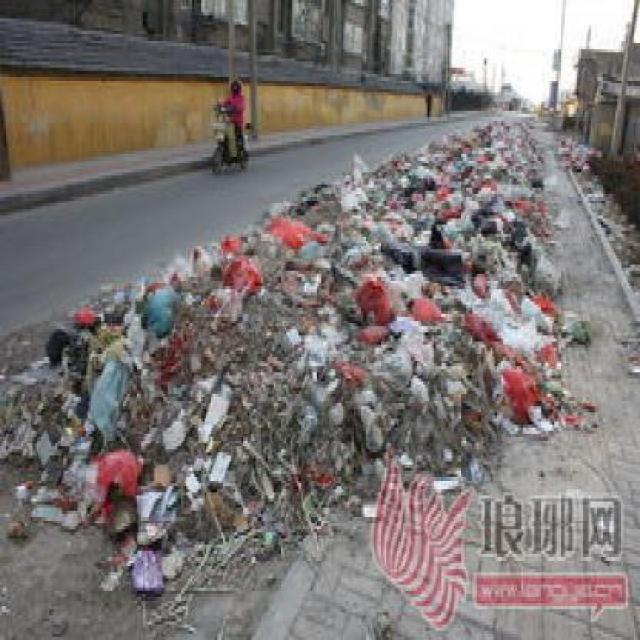garbage: (2, 335, 353, 522), (316, 191, 447, 462), (431, 123, 534, 443), (143, 271, 332, 357), (168, 210, 342, 293), (49, 277, 164, 378), (339, 142, 433, 203)
